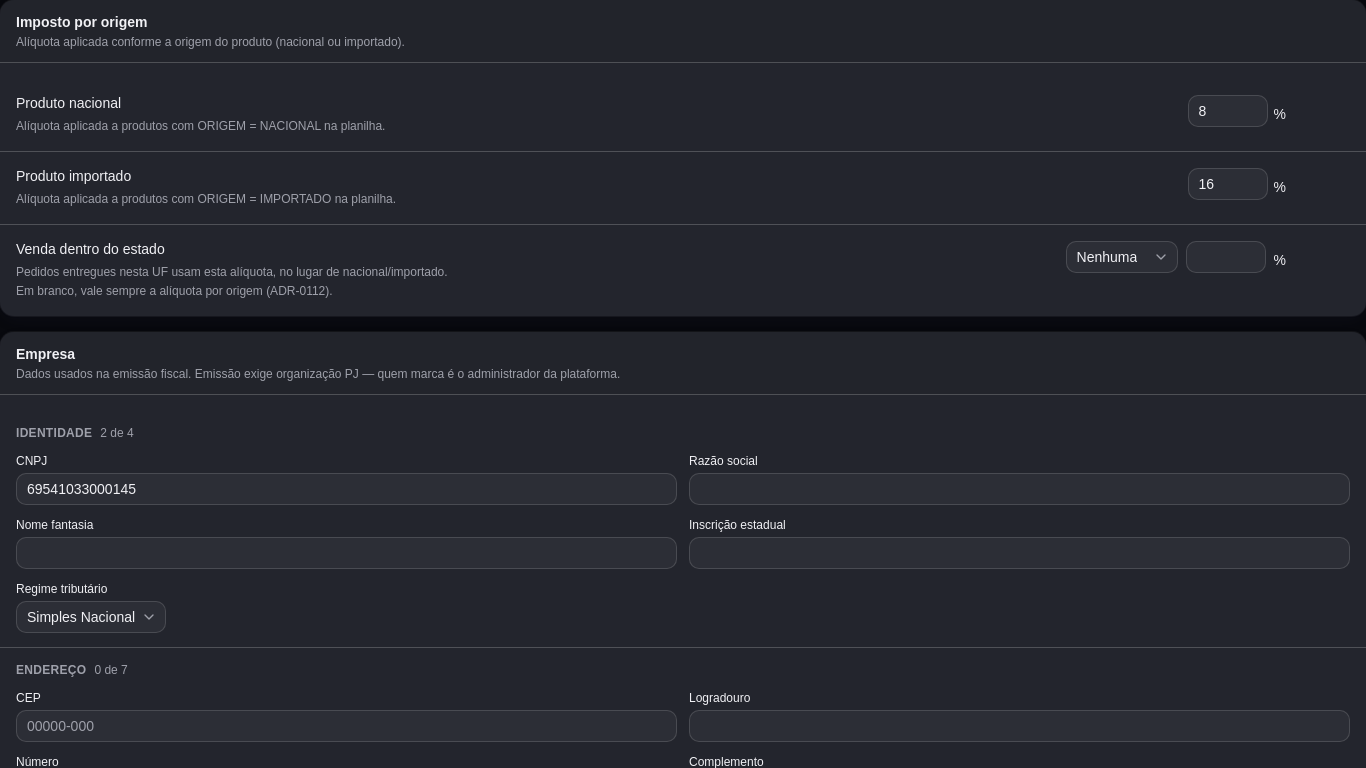
Test: CEP preenche o endereço (ViaCEP) › ViaCEP fora do ar: aviso e endereço segue editável
The image size is (1366, 768).
In the field labelled "CEP": (346, 726) [16, 710, 677, 742], type "51021530"
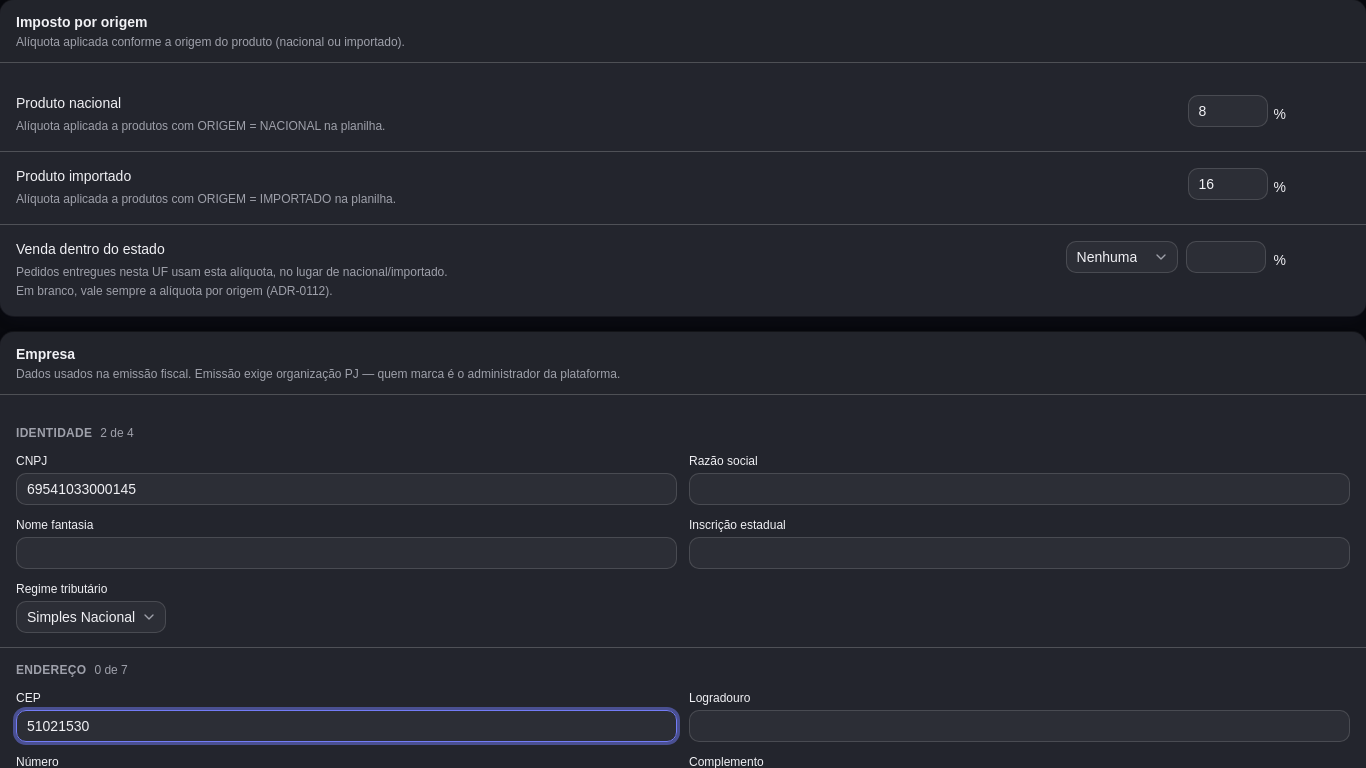
Press Tab
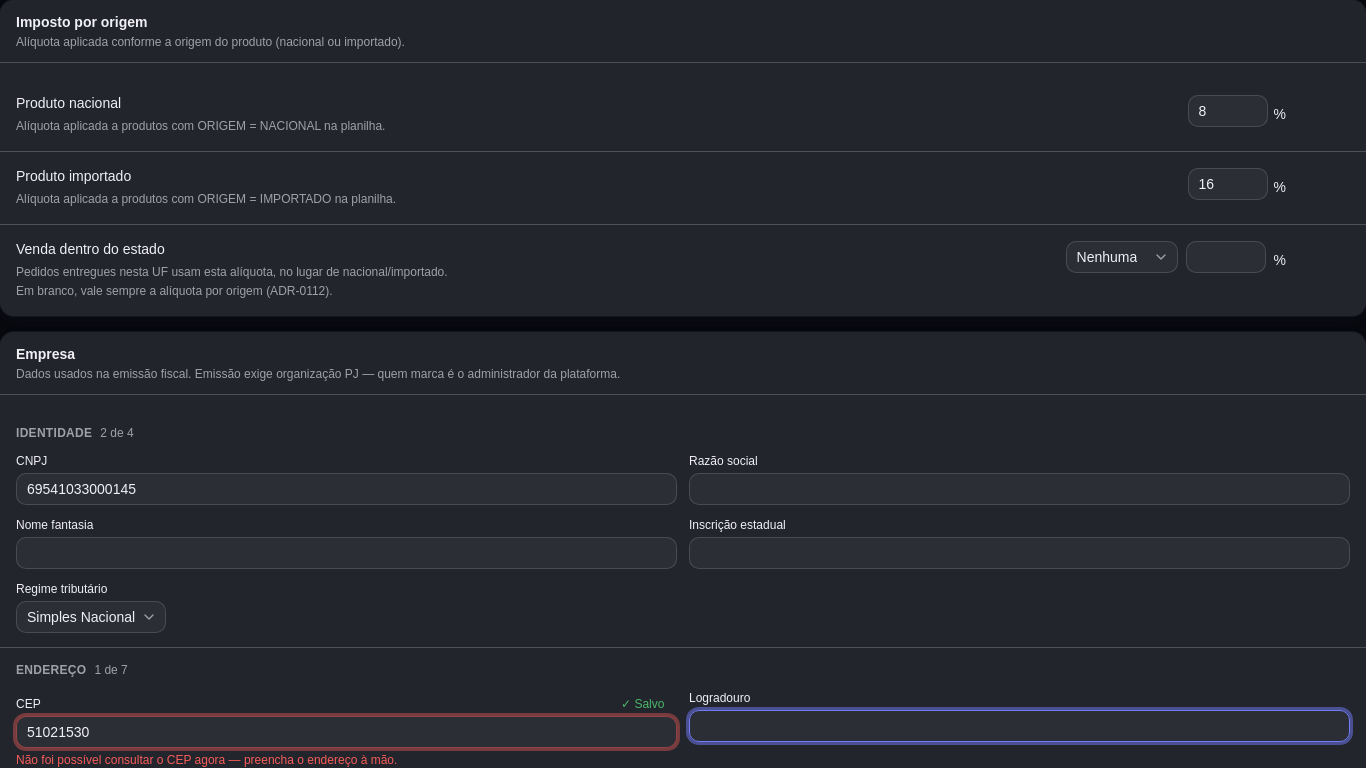
expect the field labelled "Logradouro" is enabled: met, box [689, 710, 1350, 742]
expect the text "Não foi possível consultar o CEP" is shown: met, box [16, 753, 397, 767]
